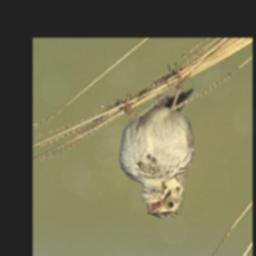Sparrow: (115, 62, 195, 220)
